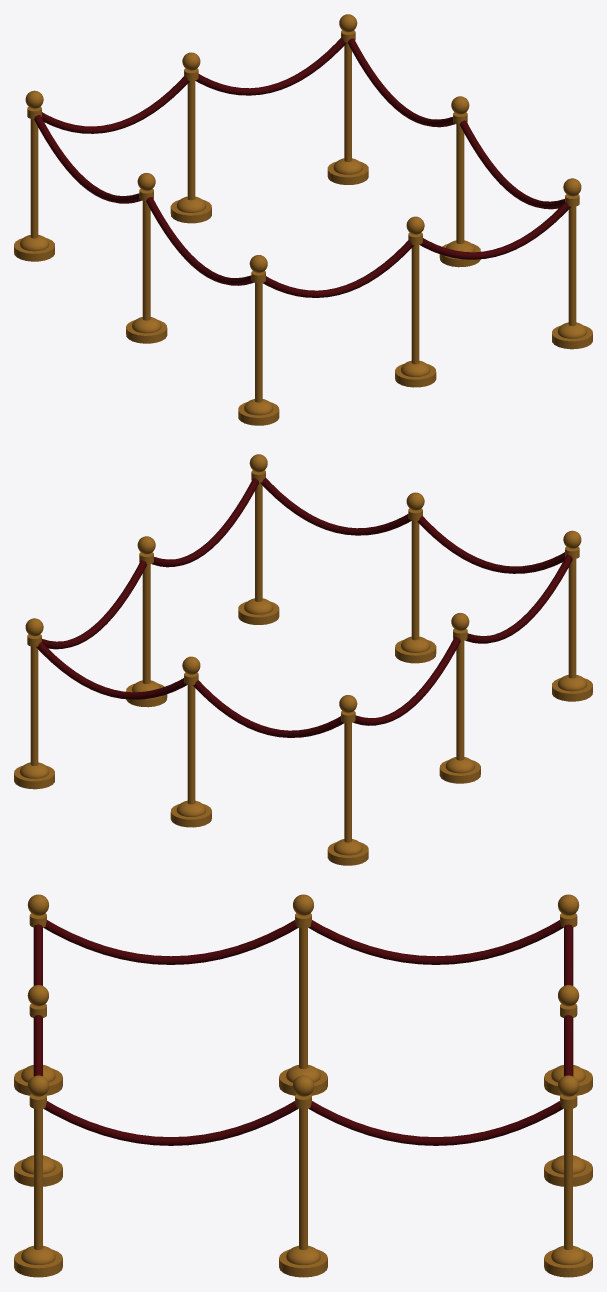
File: Rail_AsianHeritage_SeatedSculpture.fbx
The picture shows the model from 3 angles, top to bottom: view 1: azimuth 30°, elevation 25°; view 2: azimuth 150°, elevation 25°; view 3: azimuth 270°, elevation 25°; orthographic projection. The views are drawn at different scales.
Parts seen in each view (by area): view 1: M_Barrier_Brass, M_Barrier_RedVelvet; view 2: M_Barrier_Brass, M_Barrier_RedVelvet; view 3: M_Barrier_Brass, M_Barrier_RedVelvet.
Part boxes in pixels (x1,y1,x2,y2): M_Barrier_Brass: (14, 14, 592, 425); M_Barrier_RedVelvet: (34, 38, 570, 297); M_Barrier_Brass: (14, 454, 592, 865); M_Barrier_RedVelvet: (36, 478, 572, 737); M_Barrier_Brass: (14, 894, 592, 1277); M_Barrier_RedVelvet: (33, 920, 573, 1145).
Bounding box in the file's own units: 234 × 103 × 284.
